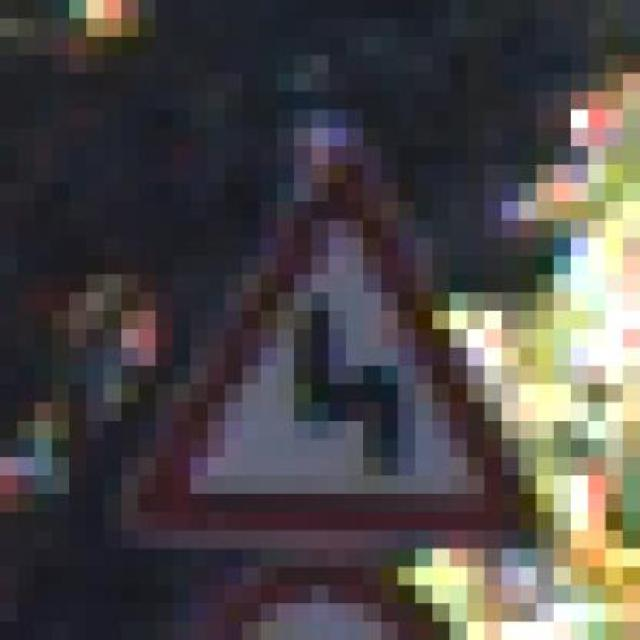Left Zig Zag Traffic: (86, 146, 571, 549)
